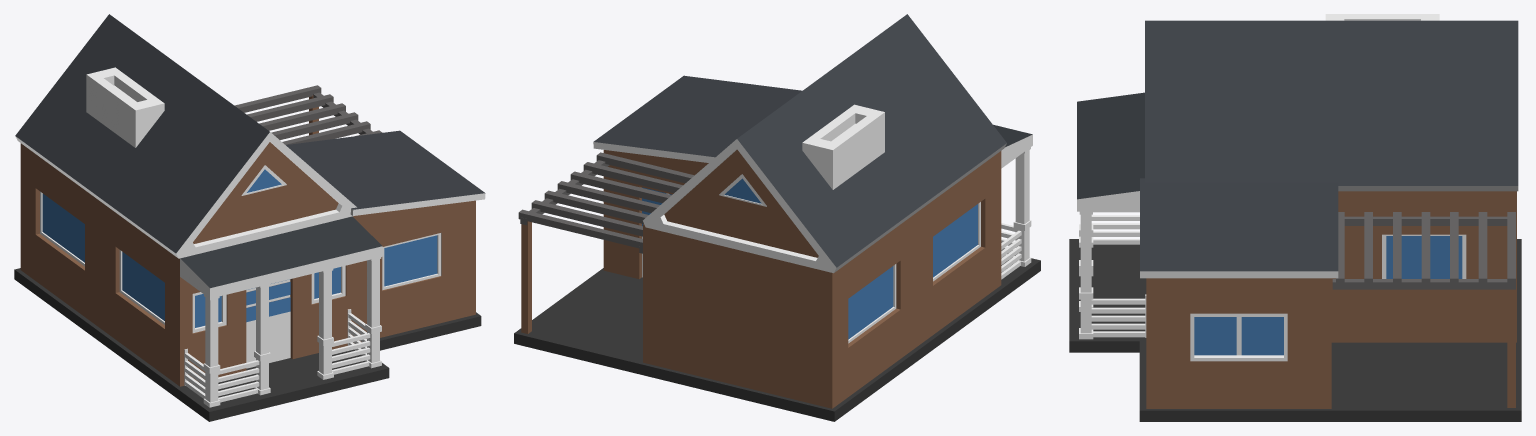
The model's file is House_4.fbx.
3 views of the same model, side by side, from view 1: azimuth 30°, elevation 25°; view 2: azimuth 150°, elevation 25°; view 3: azimuth 270°, elevation 25° (orthographic). The views are drawn at different scales.
Visible parts, largest first — view 1: House_4; view 2: House_4; view 3: House_4.
Part boxes in pixels (left/top/right/bottom): House_4: left=14, top=14, right=485, bottom=421; House_4: left=514, top=14, right=1040, bottom=421; House_4: left=1069, top=14, right=1521, bottom=421.
Size of the model in its own units: 866 by 656 by 951.
